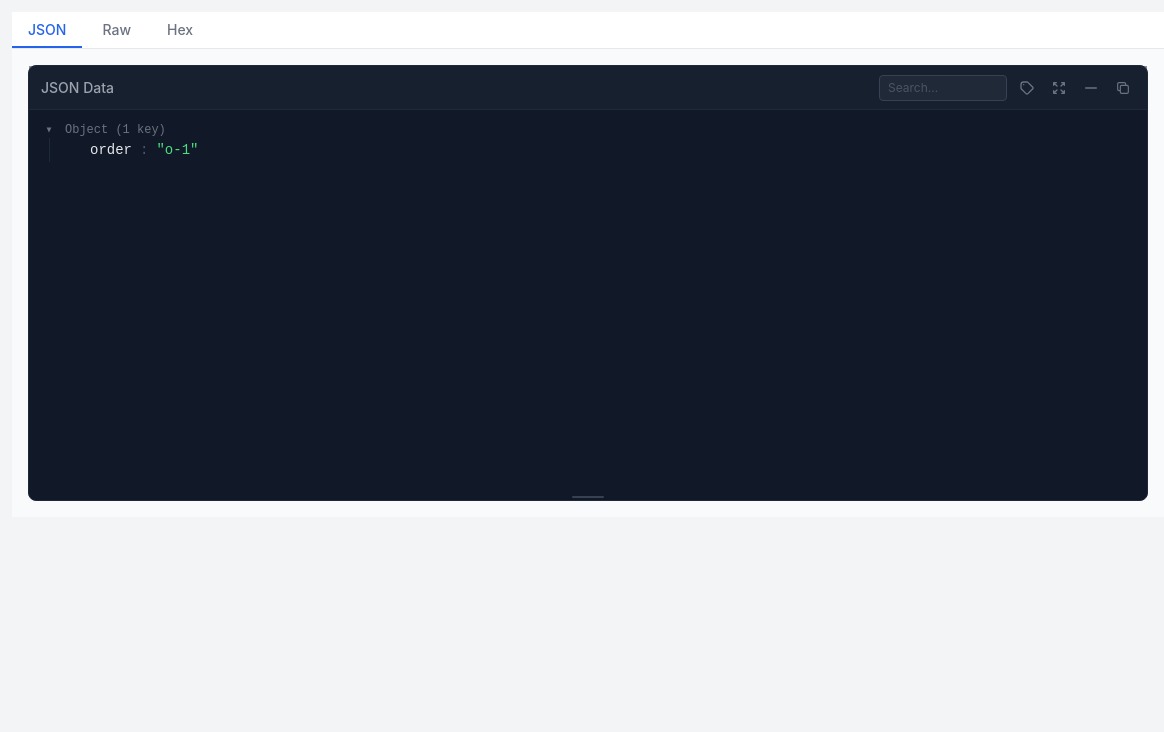
PayloadViewer › opens the next message in its own view, not the one picked for the previous message
Click the tab "Hex": click(180, 30) left=151, top=12, right=209, bottom=48
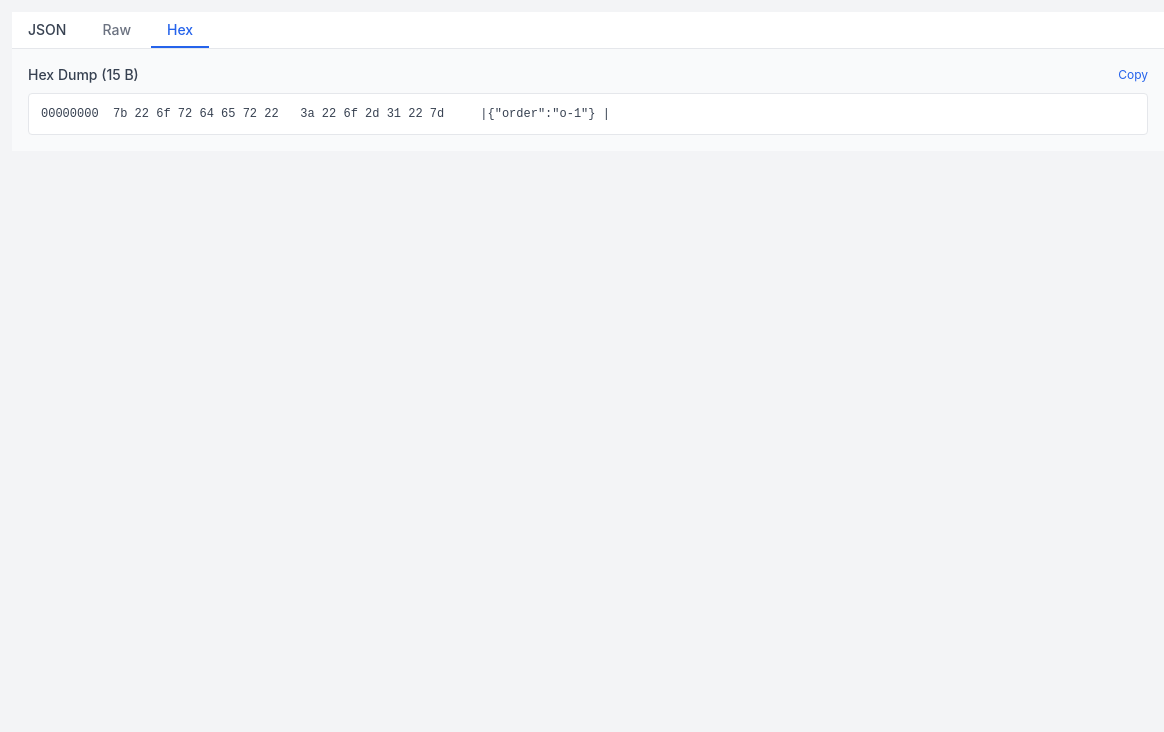
Expected: the text "Hex Dump" is shown, left=28, top=66, right=106, bottom=83
